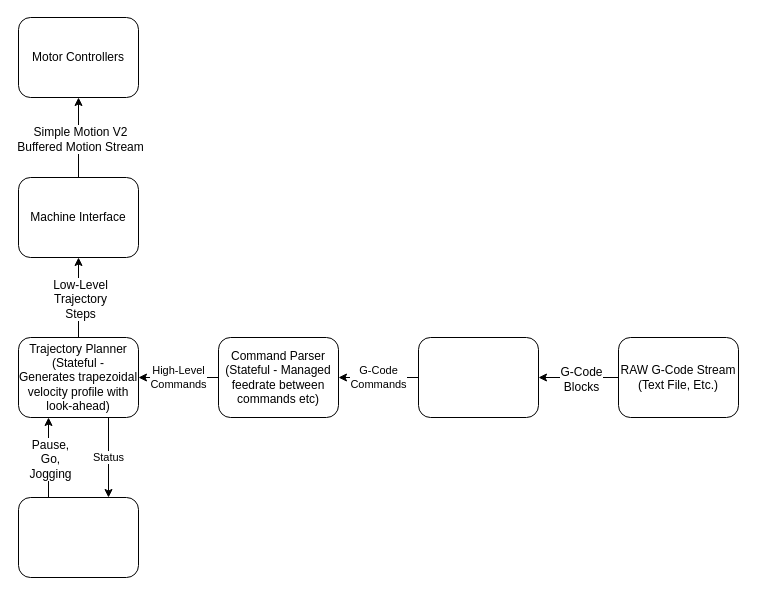
Image size: 757x595. Some labels were removed from this diagram. Here are the shapes that lost their labels. From the top down, the box of each, then its label:
(418, 336, 538, 418): G-Code Parser (Stateless)
(18, 496, 138, 578): UI
